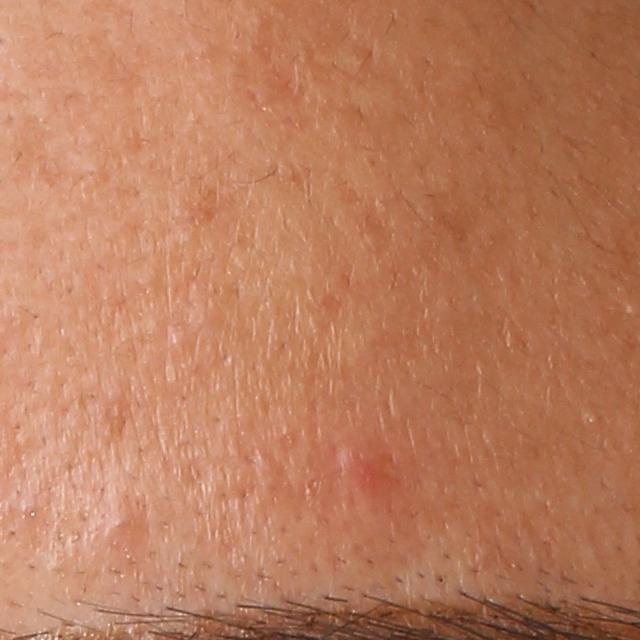comedo: (103, 500, 146, 551), (584, 411, 601, 428)
papule: (332, 440, 385, 495)
